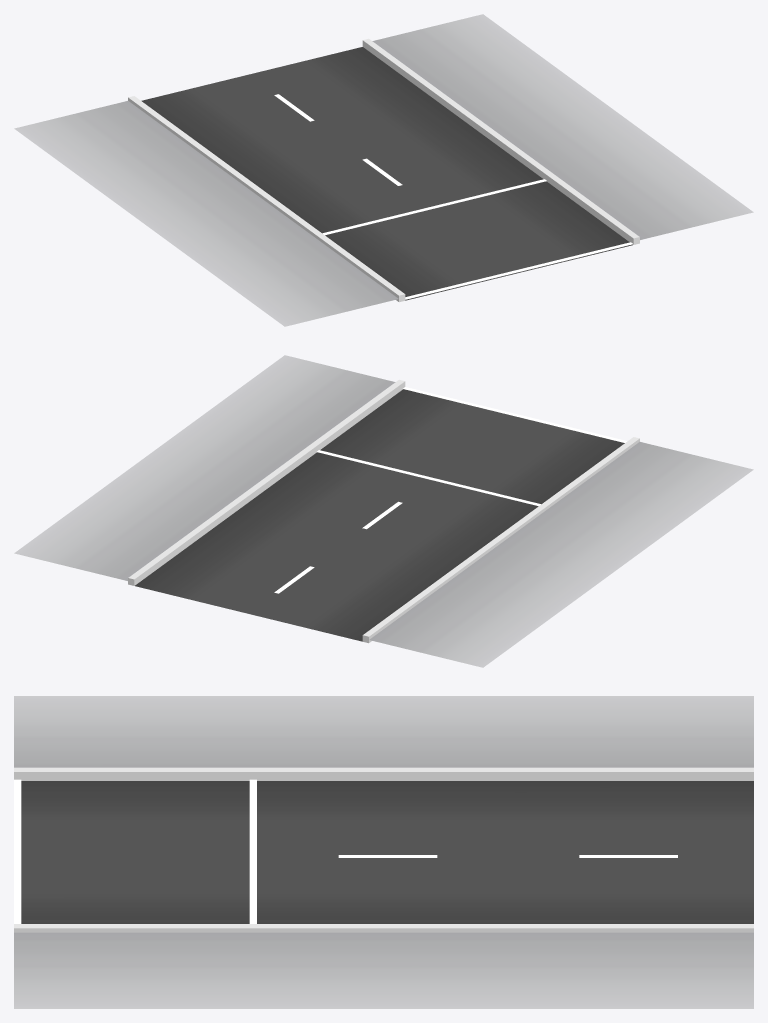
Rendered from city2-road-022.glb.
3 views of the same model, one above another, from view 1: azimuth 30°, elevation 25°; view 2: azimuth 150°, elevation 25°; view 3: azimuth 270°, elevation 25° (orthographic). The views are drawn at different scales.
Visible parts, largest first — view 1: road_022; view 2: road_022; view 3: road_022.
Part boxes in pixels (x1,y1,x2,y2): road_022: (14, 14, 753, 326); road_022: (14, 355, 753, 667); road_022: (14, 696, 753, 1008).
Bounding box in the file's own units: 15 × 0.2 × 15.
Materials: 1 (1 with a texture image).
